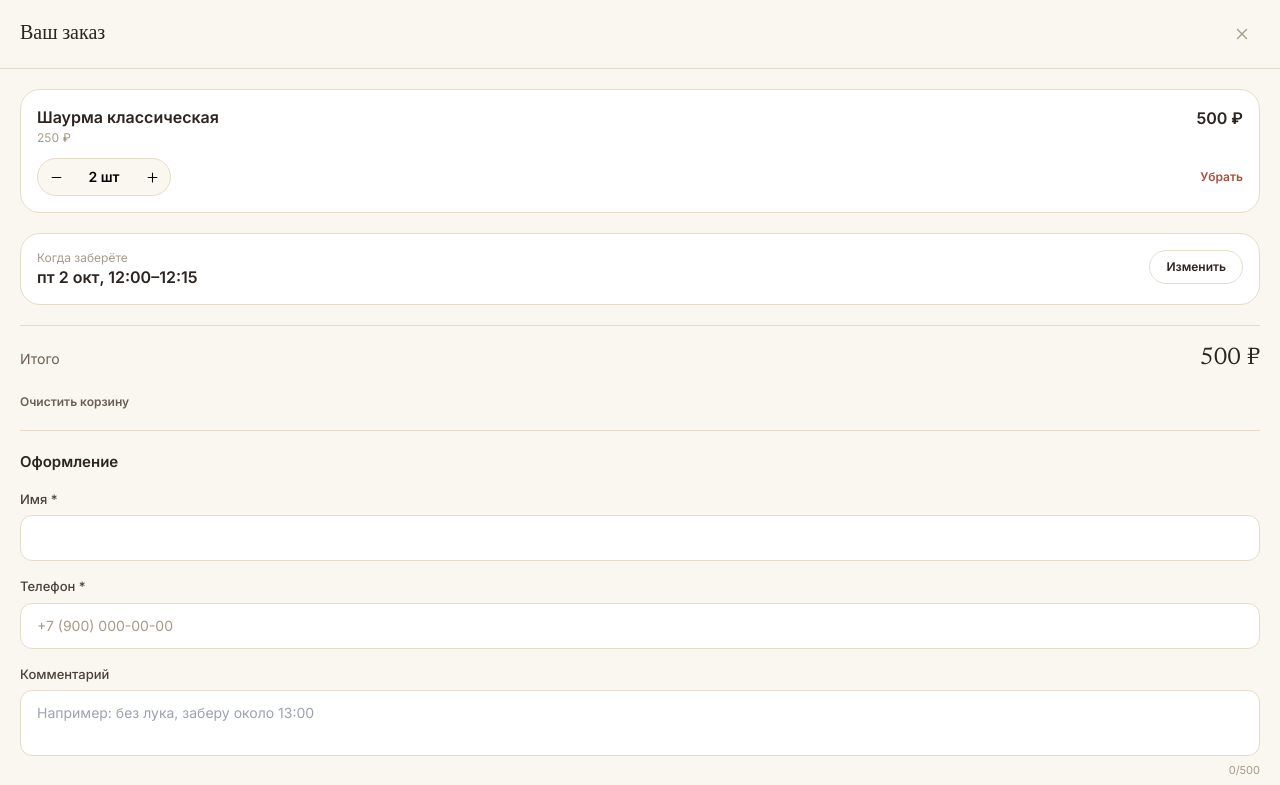
it: CartPanel — pick-up time (cycle 24) › on 409 PickupTimeUnavailable keeps the cart, clears the time, passes the server message on, and a retry reuses the key
The image size is (1280, 785).
Type "Иван" into the field labelled "Имя *" at point(640, 538), box [20,515,1260,561]
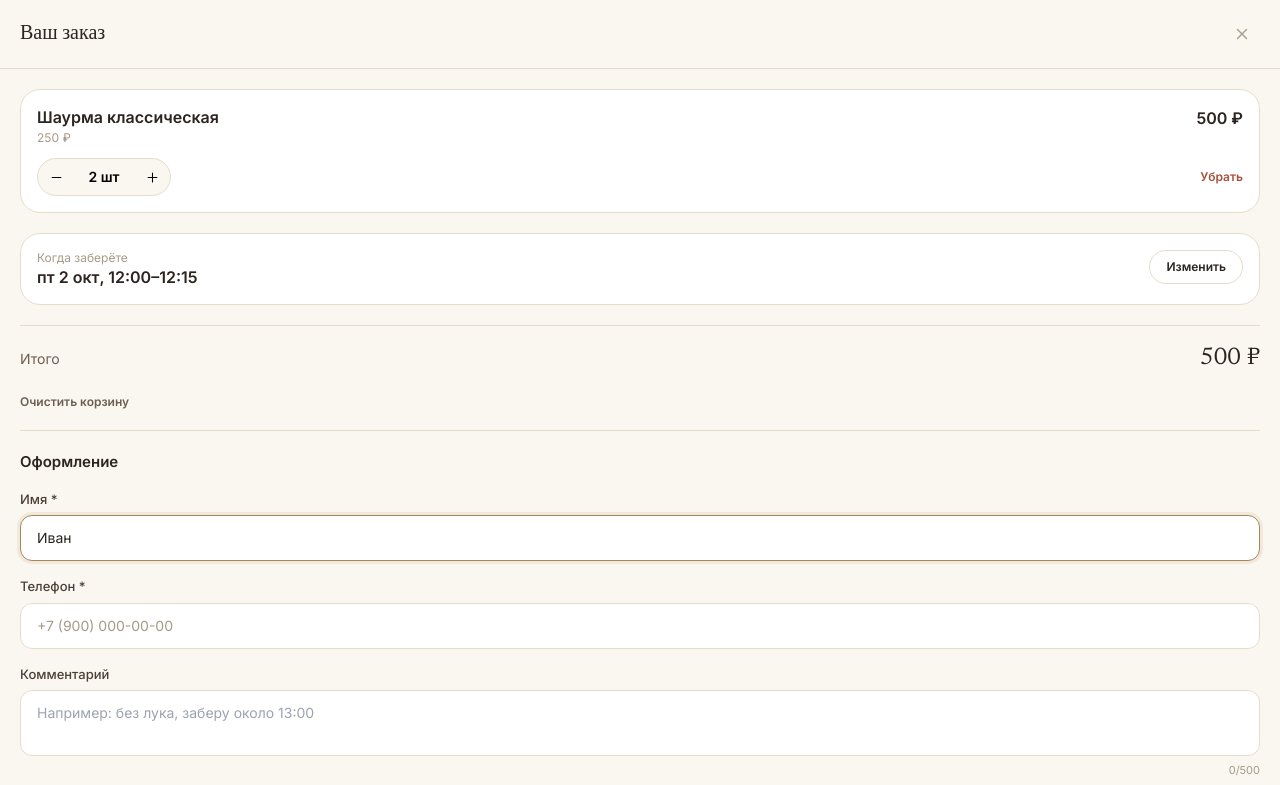
Type "+79001234567" into the field labelled "Телефон *" at point(640, 626), box [20,602,1260,648]
(page scrolled)
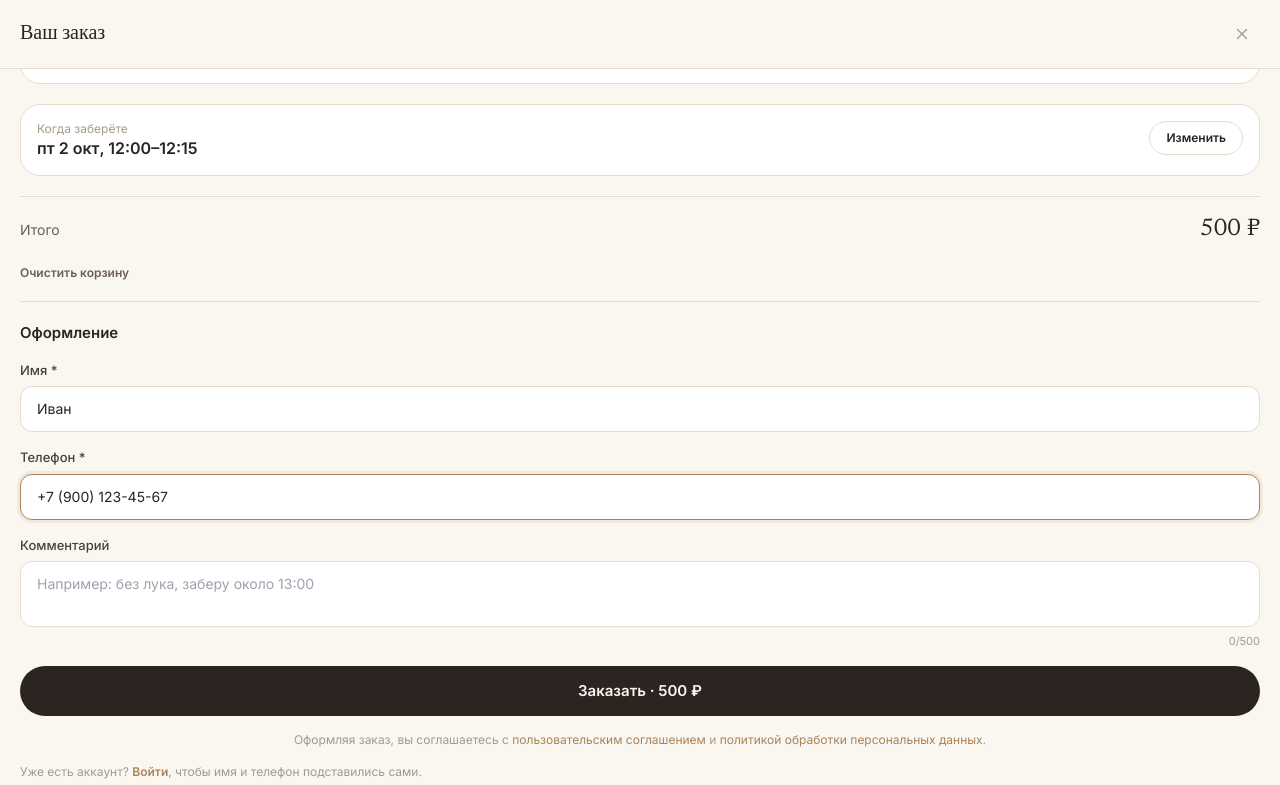
Click the button "Заказать · 500 ₽" at point(640, 691), box [20,666,1260,716]
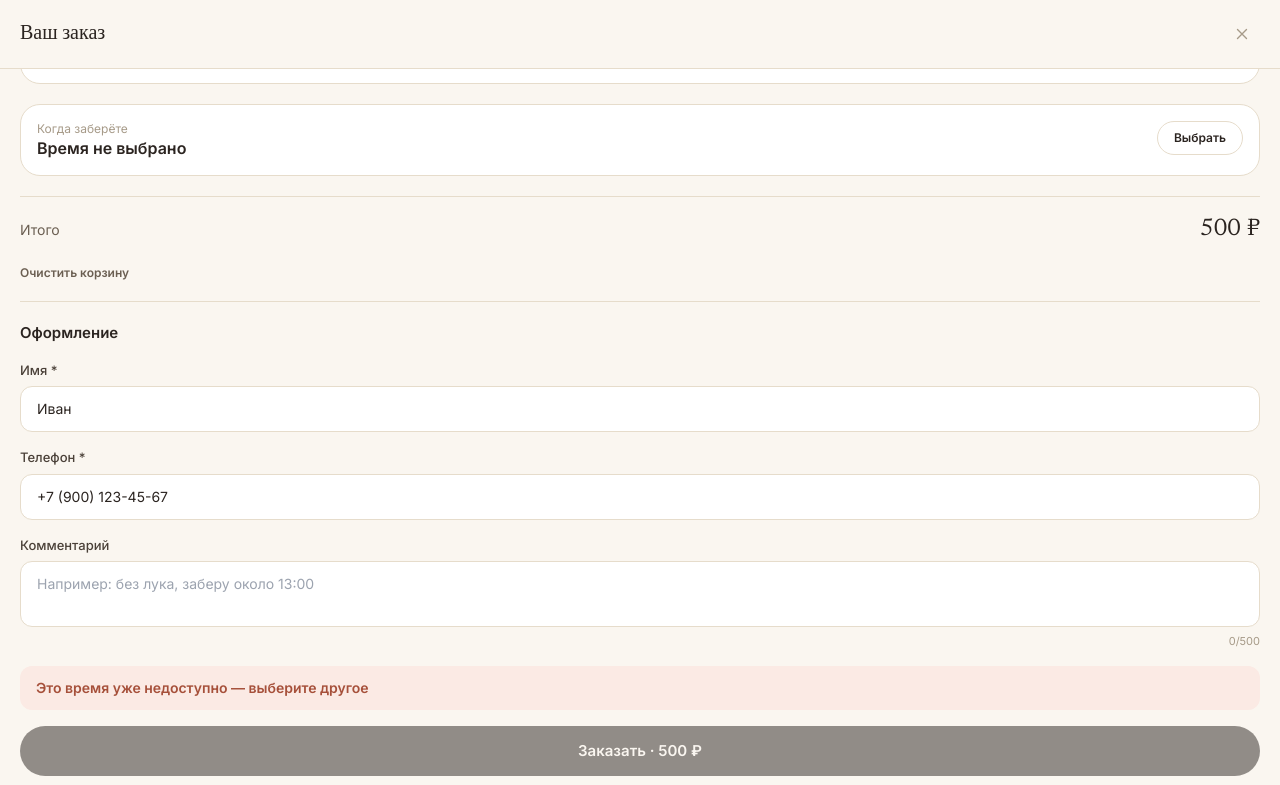
expect the text "Время не выбрано" is shown: met, box [37,137,186,159]
